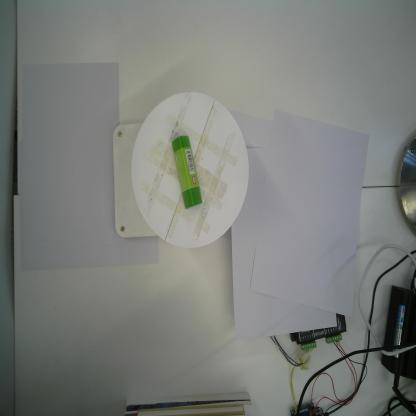Stationery: (171, 133, 204, 211)
